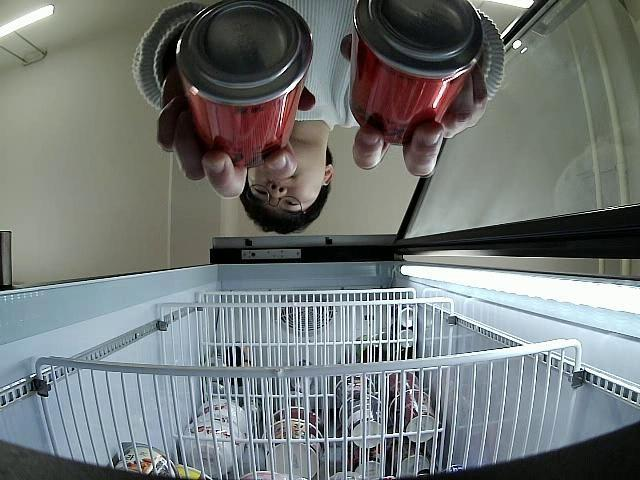11_cocaColaZero: (175, 0, 314, 165), (349, 0, 483, 144)
